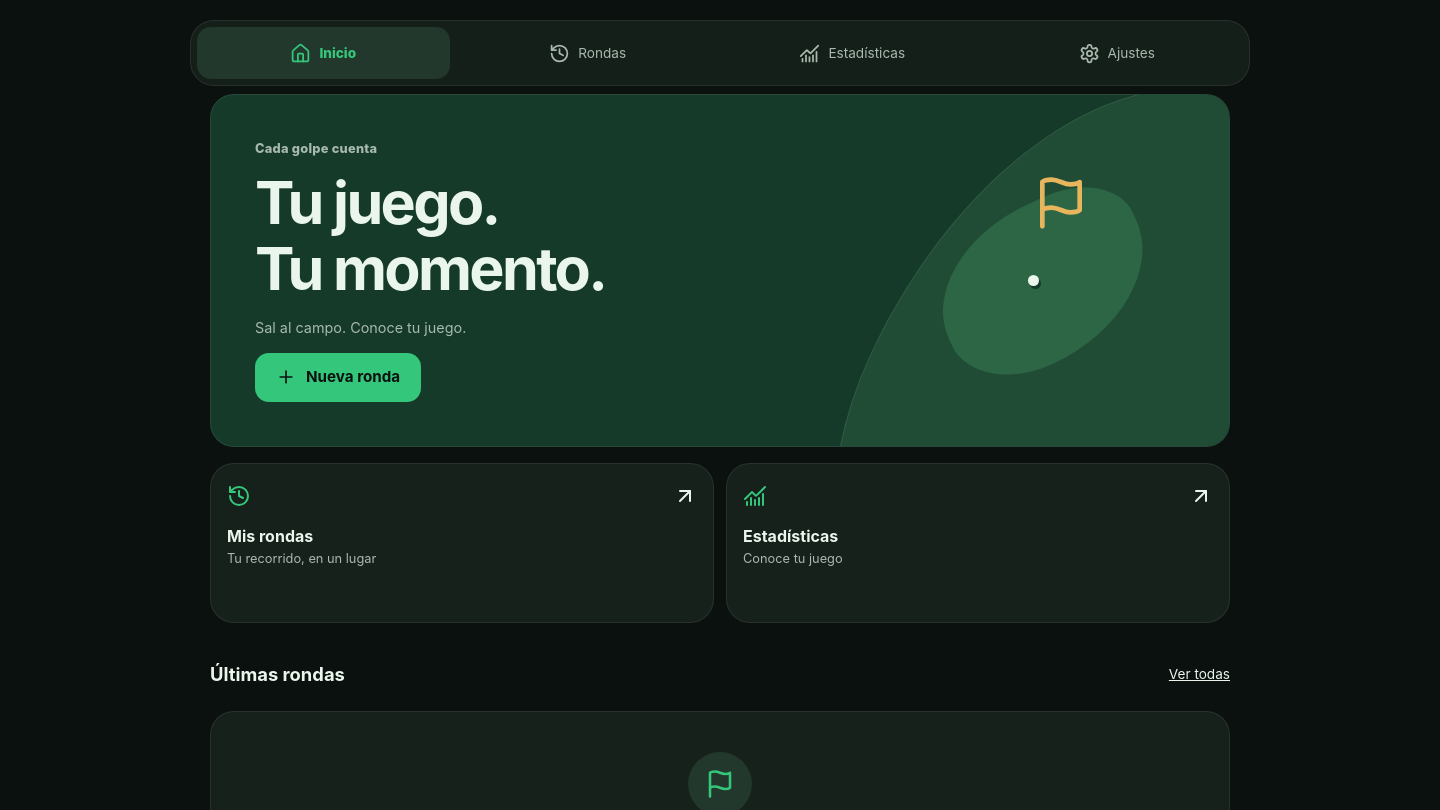
Scenario: Rutas de fase 3 › navega al preparador vacío y vuelve al inicio sin inventar una ronda
(page scrolled)
Click the link "Nueva ronda" at (338, 377), box [255, 353, 421, 402]
(page scrolled)
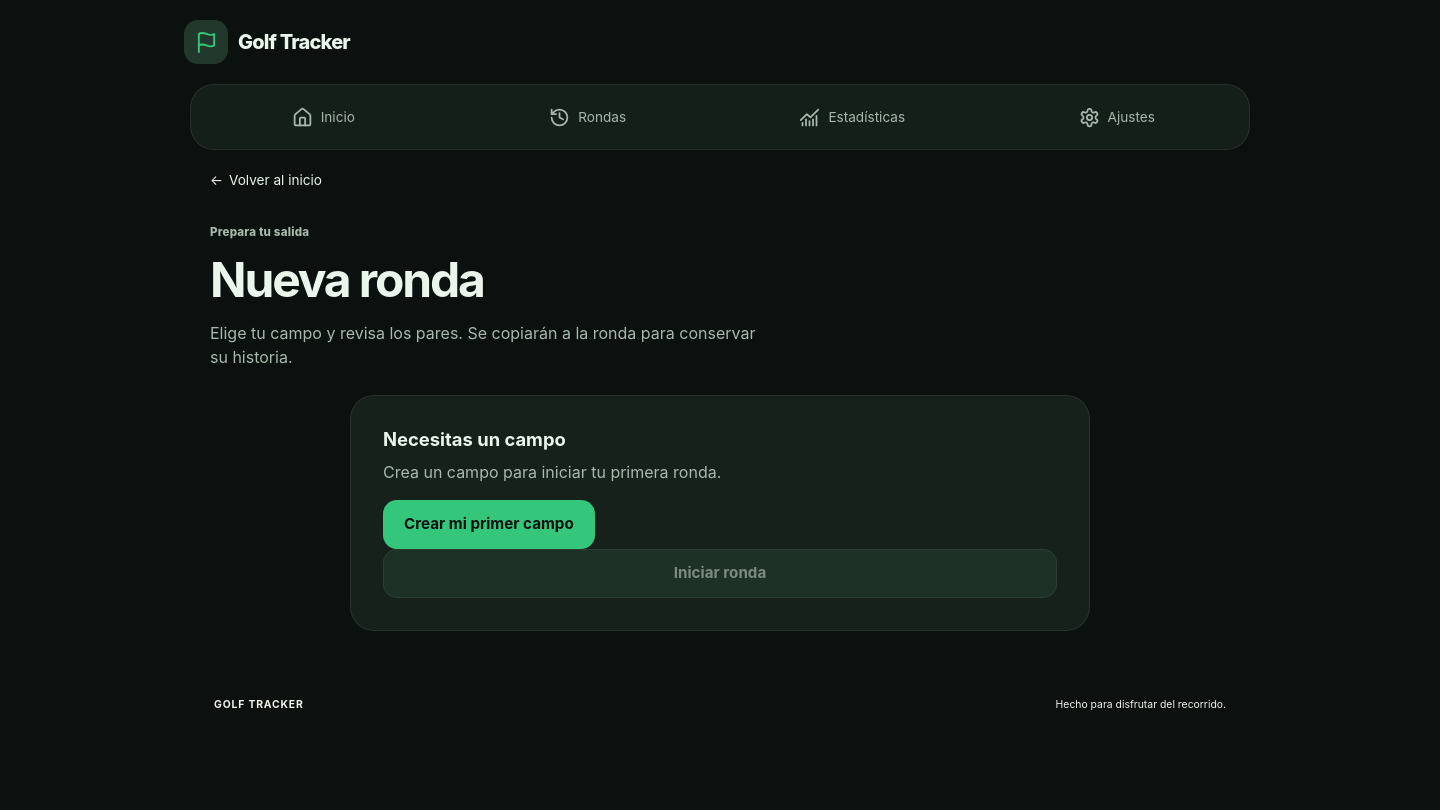
Check: the link "Crear mi primer campo" is shown, box [383, 500, 595, 549]
Check: the button "Iniciar ronda" is disabled, box [383, 549, 1057, 598]
Click the link "← Volver al inicio" at (266, 180), box [210, 172, 322, 188]
(page scrolled)
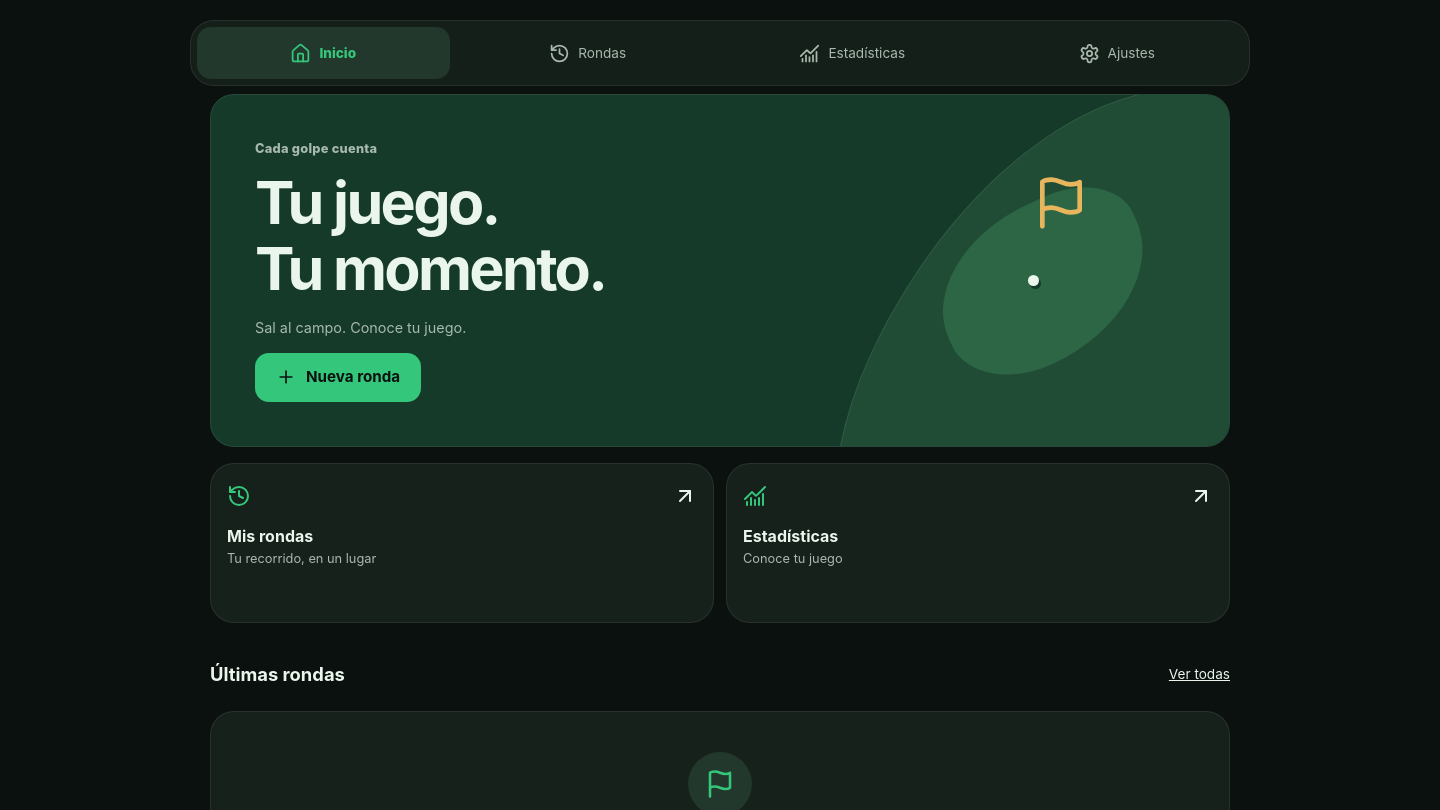
Check: the heading "Tu juego.Tu momento." is shown, box [255, 167, 605, 304]
